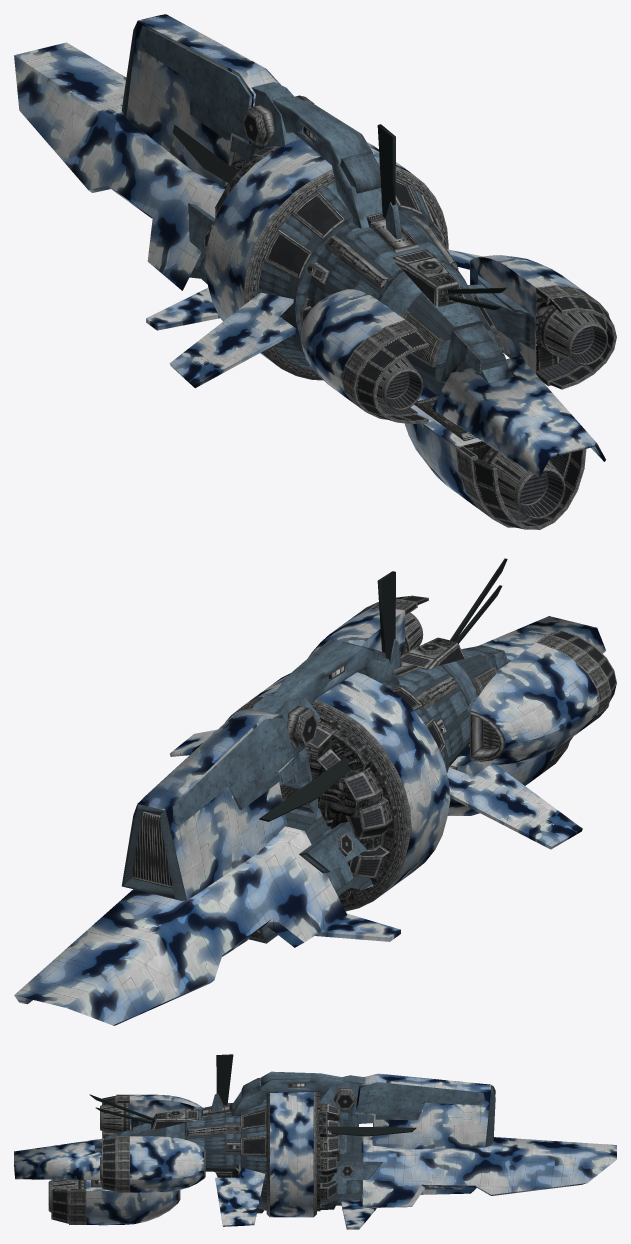
The model's file is trident.obj.
3 renders of one model, top to bottom at view 1: azimuth 30°, elevation 25°; view 2: azimuth 150°, elevation 25°; view 3: azimuth 270°, elevation 25°, orthographic. The views are drawn at different scales.
Parts seen in each view (by area): view 1: Hull1_Mesh.104, Hull2_Mesh.105, Hull3_Mesh.106; view 2: Hull1_Mesh.104, Hull2_Mesh.105, Hull3_Mesh.106; view 3: Hull1_Mesh.104, Hull3_Mesh.106, Hull2_Mesh.105.
Boxes of the visible parts, left/top/right/bottom form: Hull1_Mesh.104: left=14, top=14, right=605, bottom=507; Hull2_Mesh.105: left=172, top=95, right=616, bottom=529; Hull3_Mesh.106: left=121, top=14, right=534, bottom=395; Hull1_Mesh.104: left=14, top=609, right=605, bottom=1025; Hull2_Mesh.105: left=131, top=558, right=616, bottom=911; Hull3_Mesh.106: left=121, top=639, right=511, bottom=943; Hull1_Mesh.104: left=14, top=1073, right=616, bottom=1229; Hull3_Mesh.106: left=95, top=1071, right=495, bottom=1210; Hull2_Mesh.105: left=48, top=1054, right=416, bottom=1224.
Size of the model in its own units: 1.18 by 0.8627 by 2.81.
4 materials, 4 textured.
